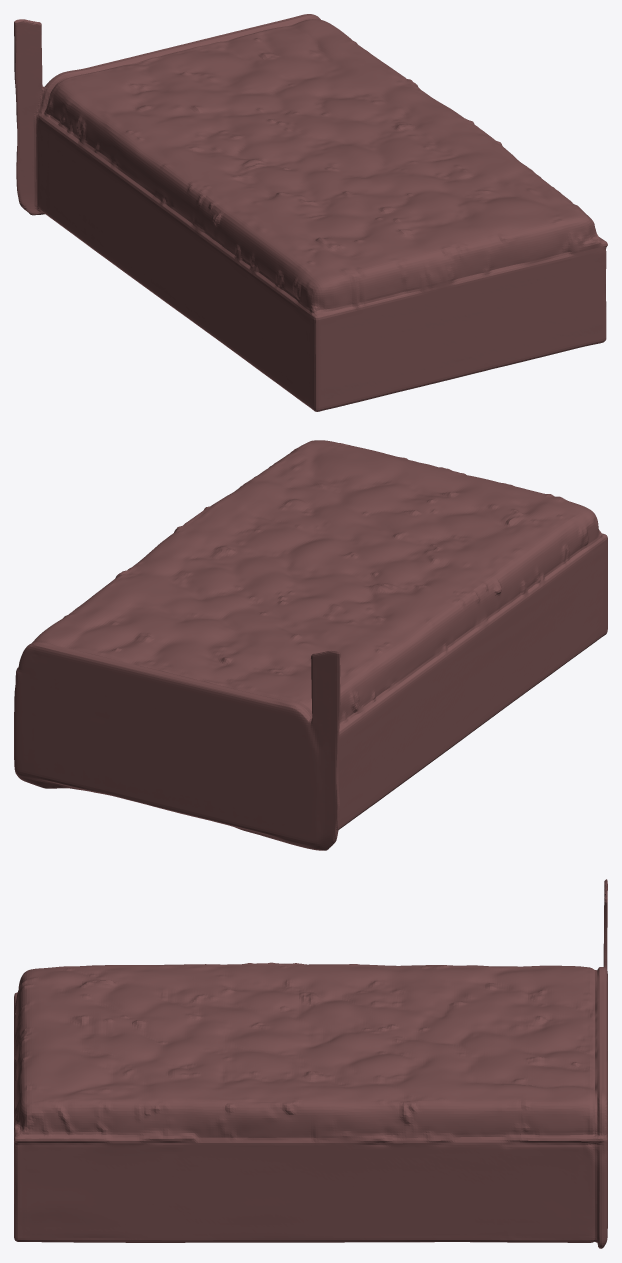
3 renders of one model, top to bottom at view 1: azimuth 30°, elevation 25°; view 2: azimuth 150°, elevation 25°; view 3: azimuth 270°, elevation 25°, orthographic. The views are drawn at different scales.
Parts seen in each view (by area): view 1: tmpt88i0dhnply; view 2: tmpt88i0dhnply; view 3: tmpt88i0dhnply.
Boxes of the visible parts, x1,y1,x2,y2 form: tmpt88i0dhnply: [14, 14, 607, 411]; tmpt88i0dhnply: [14, 440, 607, 850]; tmpt88i0dhnply: [14, 879, 607, 1248].
Bounding box in the file's own units: 1.27 × 0.779 × 1.96.
